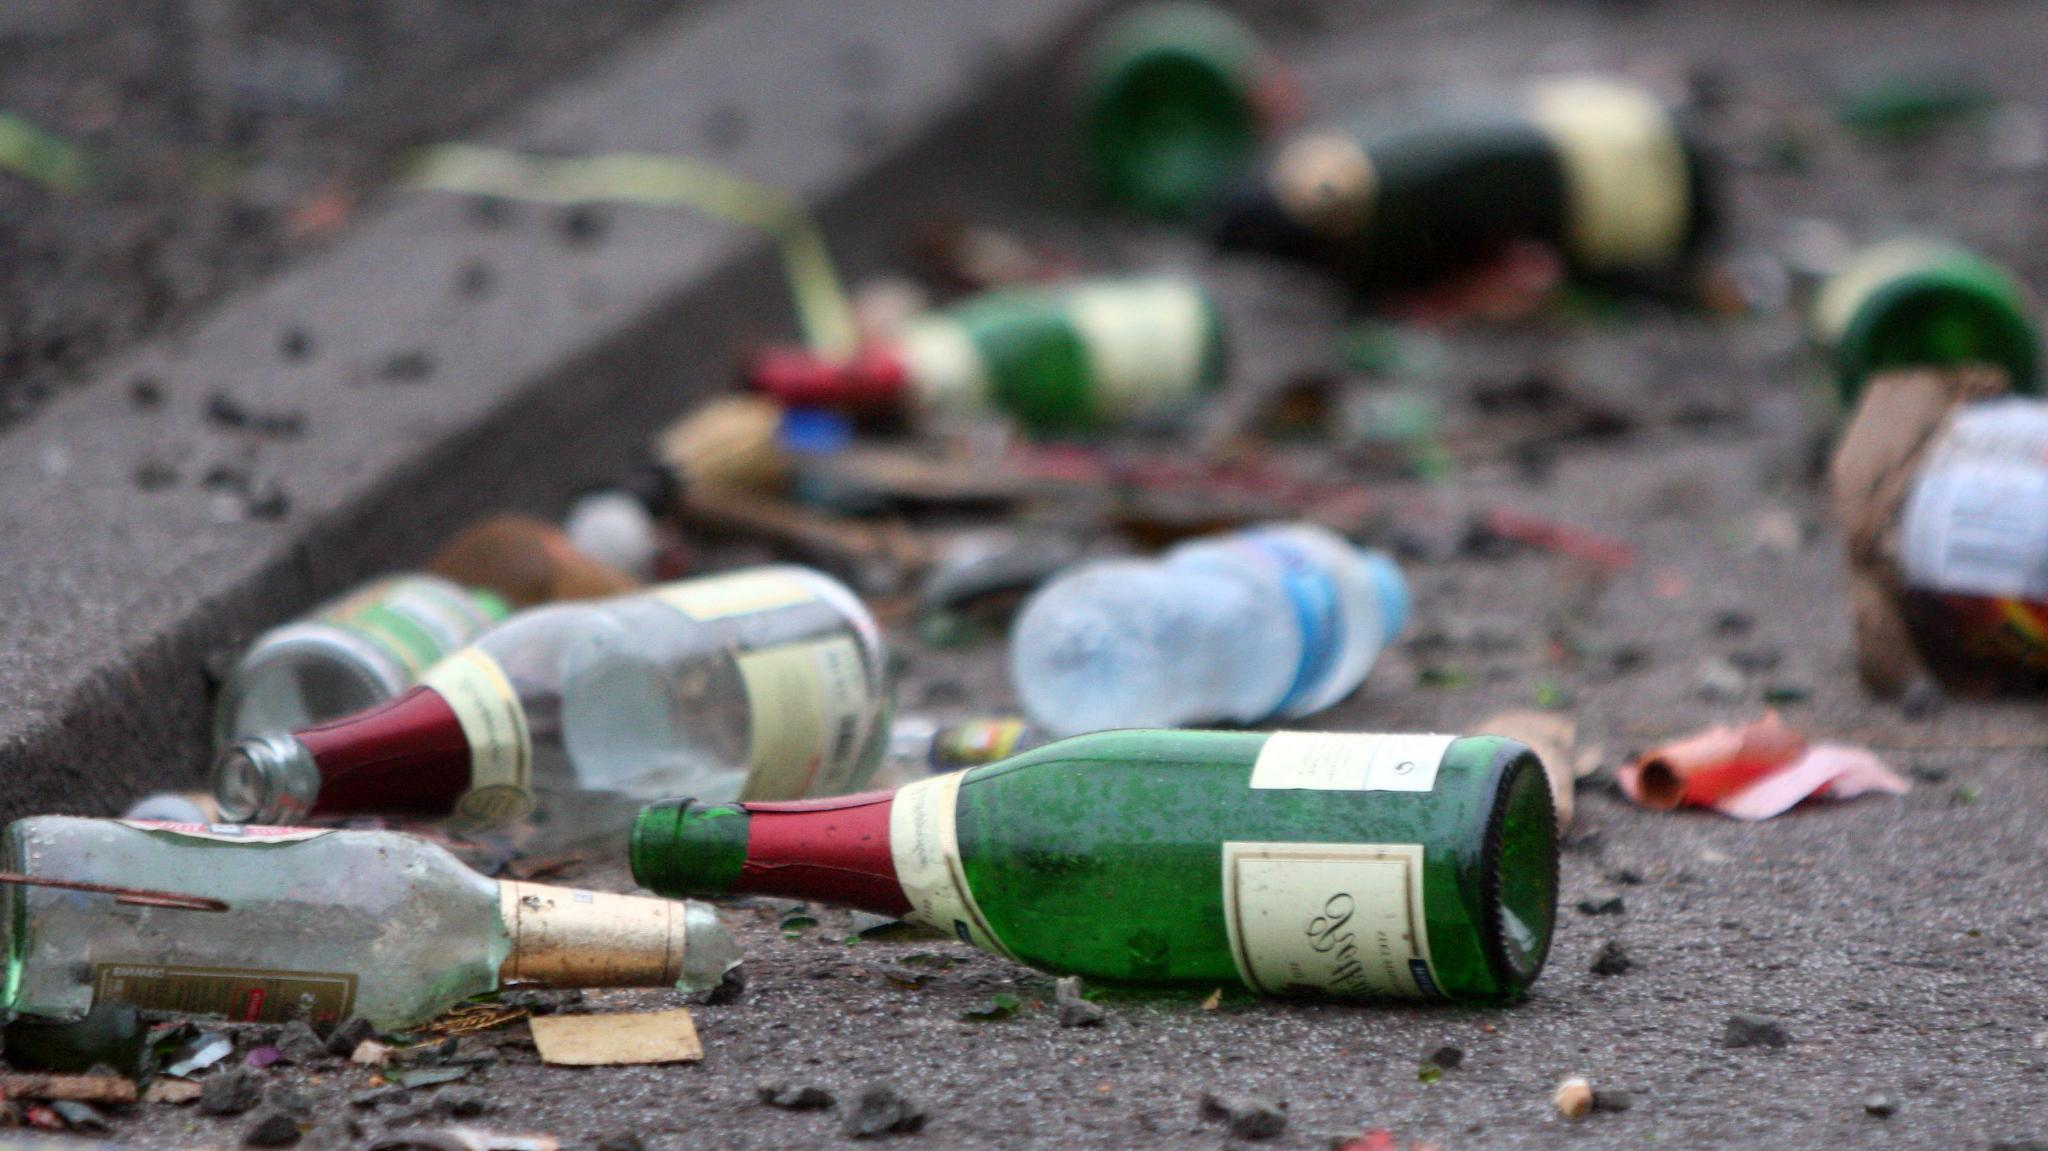Glass: (622, 715, 1568, 1010), (215, 559, 900, 836)
Plastic: (1000, 511, 1418, 743)
